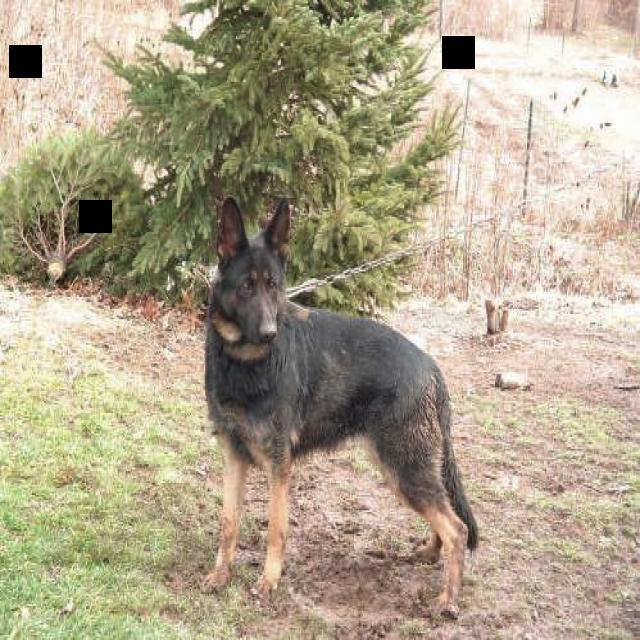adult_dog: (197, 189, 484, 626)
